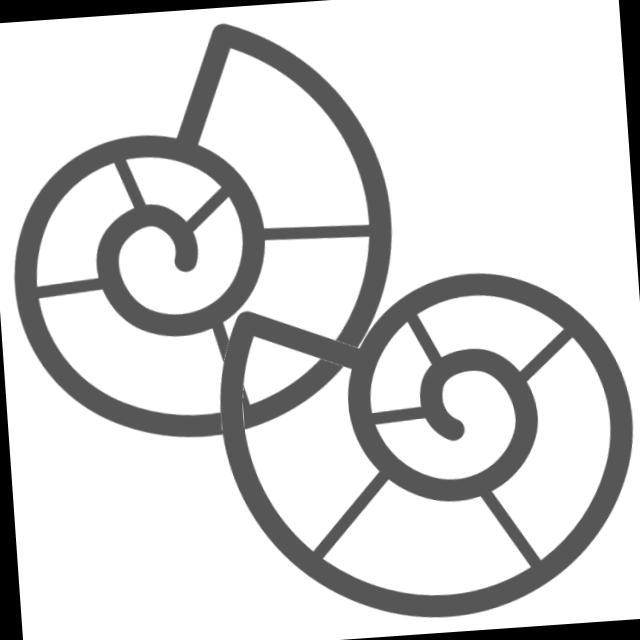fossil: (1, 6, 419, 463), (199, 248, 640, 638)
